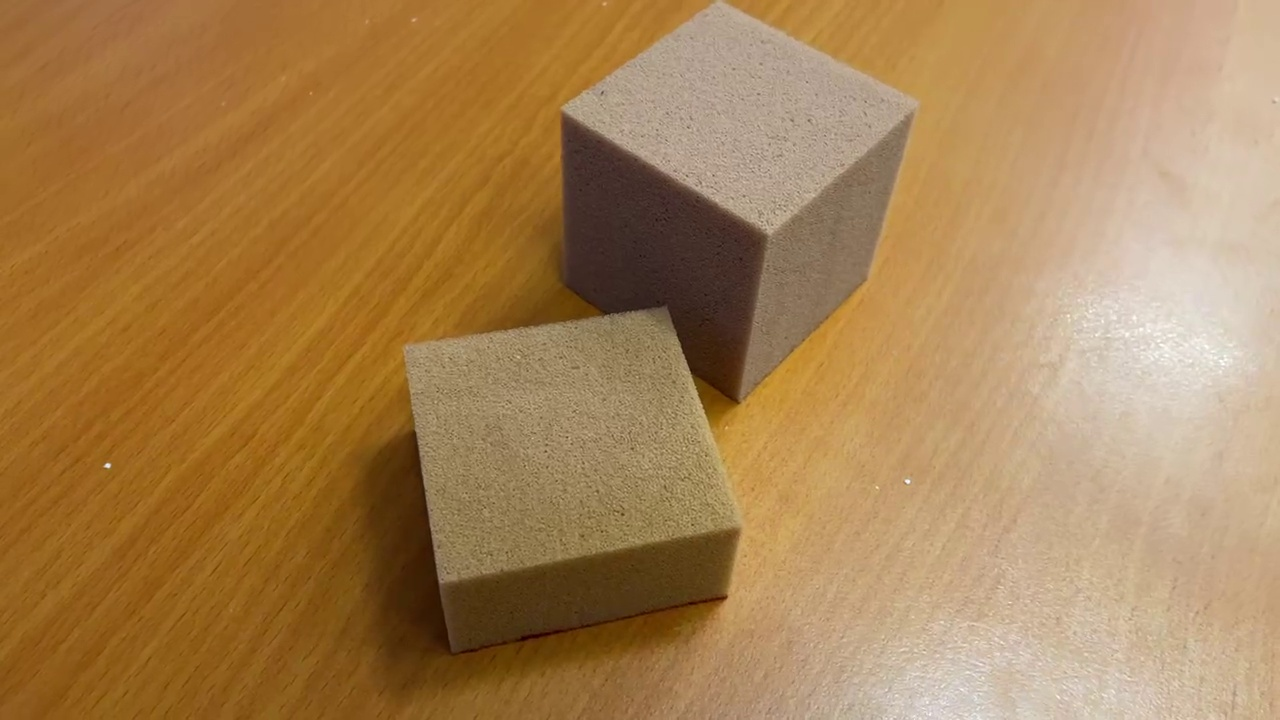Cube: (553, 1, 925, 413)
Cube_short: (388, 305, 748, 656)
